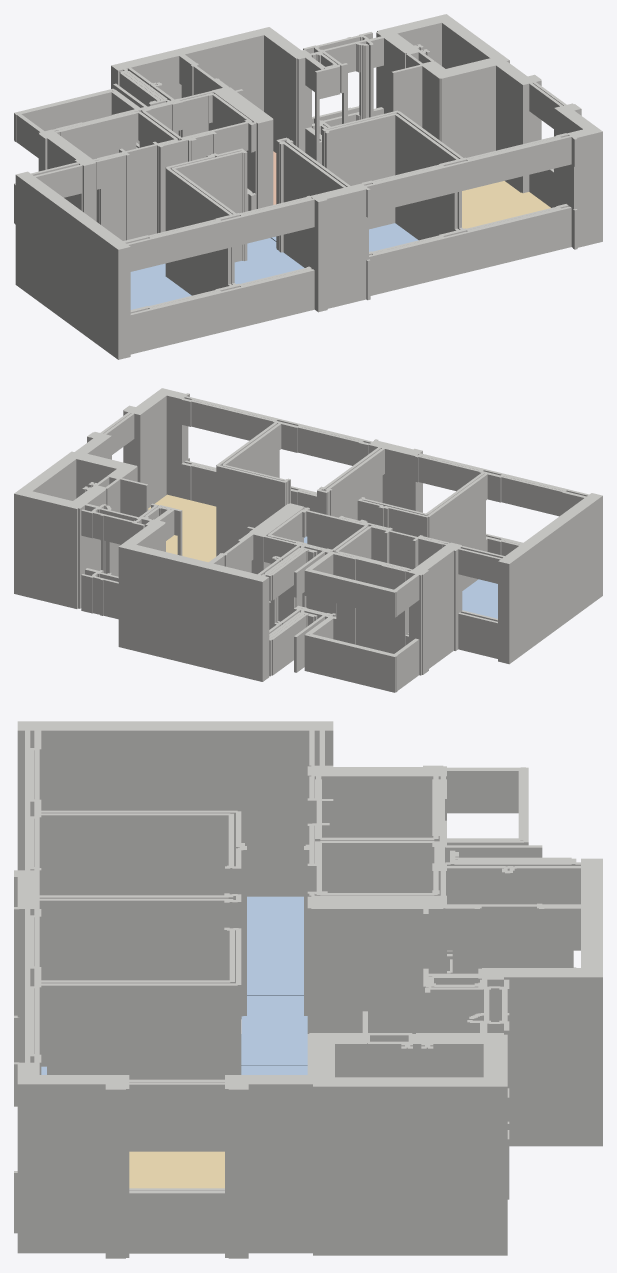
The picture shows the model from 3 angles, top to bottom: view 1: azimuth 30°, elevation 25°; view 2: azimuth 150°, elevation 25°; view 3: azimuth 270°, elevation 25°; orthographic projection. The views are drawn at different scales.
Parts seen in each view (by area): view 1: walls, room:living:4, room:bedroom:9, room:bedroom:3, room:bedroom:6; view 2: walls, room:living:4, room:bedroom:3; view 3: walls, room:bedroom:3, room:bedroom:9, room:living:4, room:bedroom:6.
Boxes of the visible parts, x1,y1,x2,y2 form: walls: (14, 14, 602, 359); room:living:4: (462, 181, 550, 228); room:bedroom:9: (234, 238, 304, 284); room:bedroom:3: (130, 263, 191, 309); room:bedroom:6: (271, 223, 418, 251); walls: (14, 388, 602, 692); room:living:4: (148, 494, 216, 562); room:bedroom:3: (462, 579, 497, 618); walls: (14, 721, 602, 1258); room:bedroom:3: (247, 896, 303, 995); room:bedroom:9: (241, 996, 307, 1065); room:living:4: (129, 1151, 224, 1188); room:bedroom:6: (41, 1065, 307, 1074).
Size of the model in its own units: 13.09 by 2.8 by 8.84.
